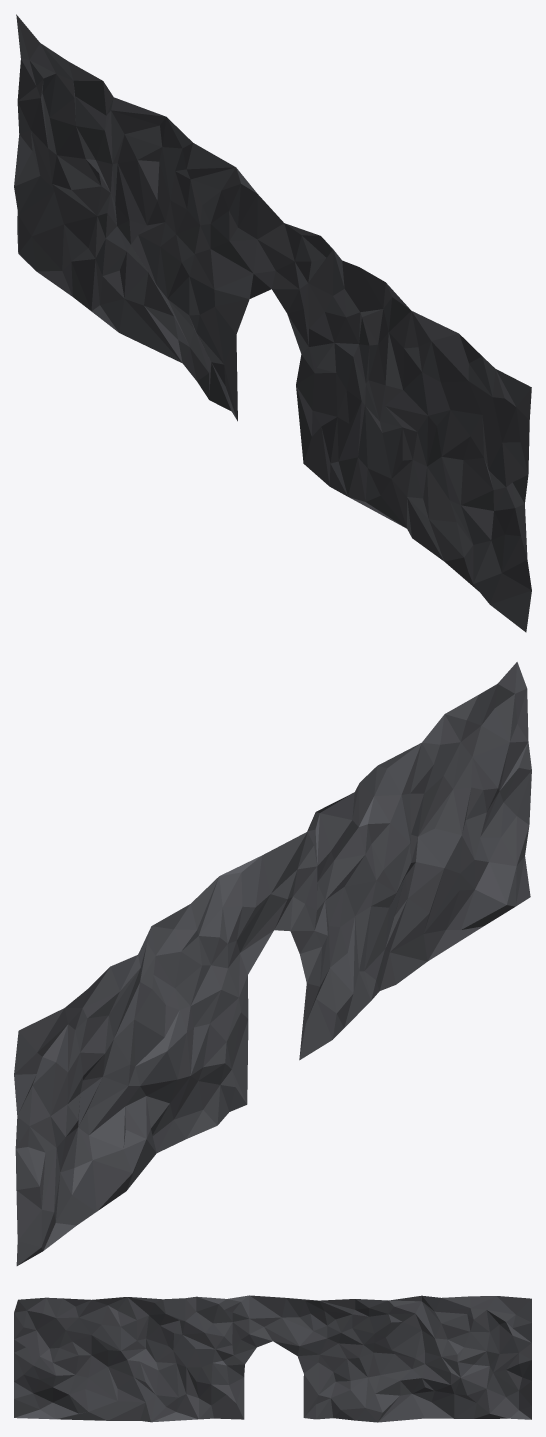
Rendered from Mur_Cadre_B.FBX.
The picture shows the model from 3 angles, top to bottom: view 1: azimuth 30°, elevation 25°; view 2: azimuth 150°, elevation 25°; view 3: azimuth 270°, elevation 25°; orthographic projection. The views are drawn at different scales.
Visible parts, largest first — view 1: Mur_Cadre_B; view 2: Mur_Cadre_B; view 3: Mur_Cadre_B.
Part boxes in pixels (left/top/right/bottom): Mur_Cadre_B: left=14, top=14, right=531, bottom=632; Mur_Cadre_B: left=14, top=662, right=531, bottom=1265; Mur_Cadre_B: left=14, top=1295, right=531, bottom=1422.
Bounding box in the file's own units: 60.87 × 422 × 1640.
Materials: 1 (1 with a texture image).
